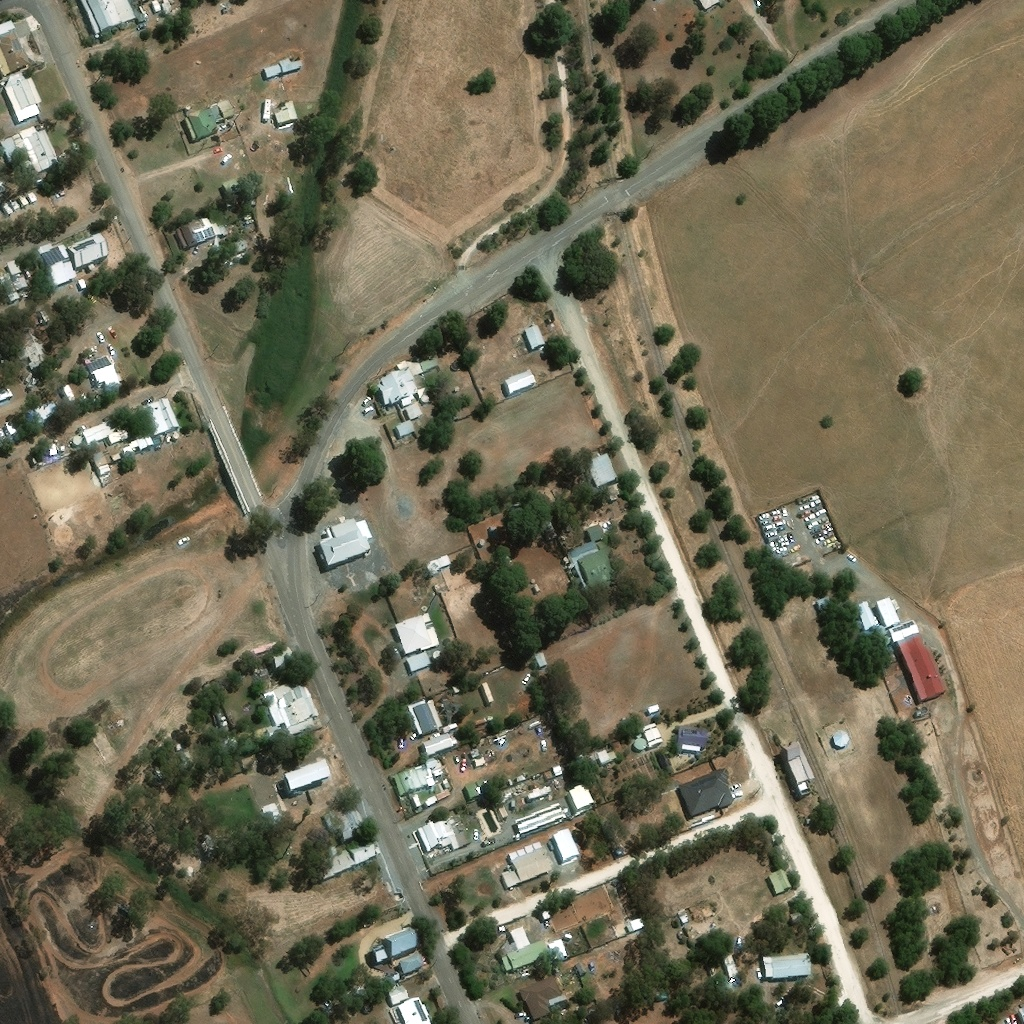0 no-damage: (885, 617, 947, 702), (261, 674, 321, 737), (35, 236, 109, 287), (375, 348, 439, 406), (121, 396, 180, 458), (569, 521, 618, 593), (500, 924, 568, 971), (317, 514, 373, 568), (678, 766, 734, 816), (2, 124, 58, 173), (314, 837, 377, 878), (501, 838, 552, 886), (3, 71, 42, 123), (393, 755, 445, 794), (518, 975, 565, 1018), (779, 741, 814, 798), (394, 612, 440, 654), (0, 18, 32, 76), (513, 800, 566, 834), (370, 927, 420, 963), (416, 813, 462, 851), (324, 801, 368, 840), (282, 760, 331, 794), (182, 104, 224, 141), (83, 354, 125, 390), (406, 698, 444, 736), (80, 417, 128, 447), (0, 258, 31, 303), (762, 951, 811, 977), (14, 331, 45, 370), (585, 455, 617, 489), (397, 994, 432, 1023), (552, 826, 580, 860), (395, 402, 422, 436), (632, 721, 664, 748), (503, 369, 537, 394), (421, 731, 455, 755), (463, 773, 494, 799), (853, 600, 878, 632), (568, 783, 596, 811), (191, 220, 221, 244), (678, 728, 710, 750), (260, 800, 285, 827), (397, 952, 426, 975), (523, 324, 547, 350), (406, 650, 433, 672), (425, 554, 453, 575), (769, 867, 792, 892), (249, 637, 278, 654), (32, 402, 54, 423), (271, 647, 293, 668), (526, 783, 553, 800), (388, 982, 409, 1003), (590, 747, 617, 763), (722, 952, 739, 977), (0, 416, 16, 441), (832, 729, 851, 747), (481, 680, 495, 703), (469, 747, 486, 765), (817, 594, 834, 611), (224, 732, 240, 750), (222, 177, 241, 191), (174, 229, 187, 249), (179, 749, 194, 766), (252, 662, 270, 676), (611, 841, 627, 856), (629, 915, 646, 929), (534, 652, 548, 668), (575, 960, 588, 975), (424, 793, 439, 805), (678, 908, 691, 921), (789, 909, 803, 921), (647, 701, 662, 712), (111, 450, 123, 462), (552, 762, 564, 774), (97, 464, 110, 475), (412, 793, 423, 806), (541, 908, 552, 920), (432, 648, 443, 659), (575, 753, 586, 764), (498, 804, 508, 816), (50, 444, 58, 456), (137, 6, 146, 16), (73, 437, 81, 445), (478, 538, 488, 543), (555, 776, 562, 783), (0, 79, 5, 84)
2 major-damage: (263, 55, 302, 78), (274, 101, 298, 127), (185, 104, 191, 111)
4 un-classified: (83, 267, 97, 278), (533, 582, 541, 591), (341, 990, 351, 997)
